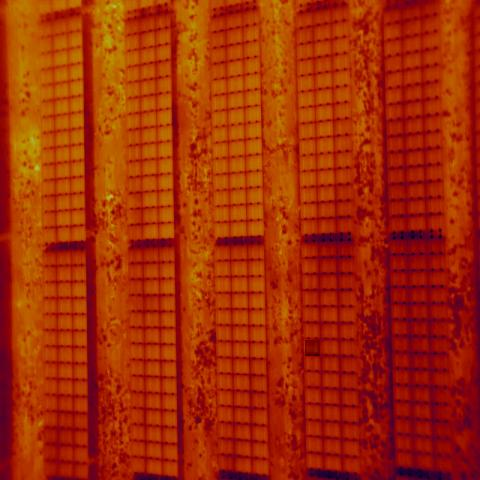fault: (305, 340, 320, 356)
